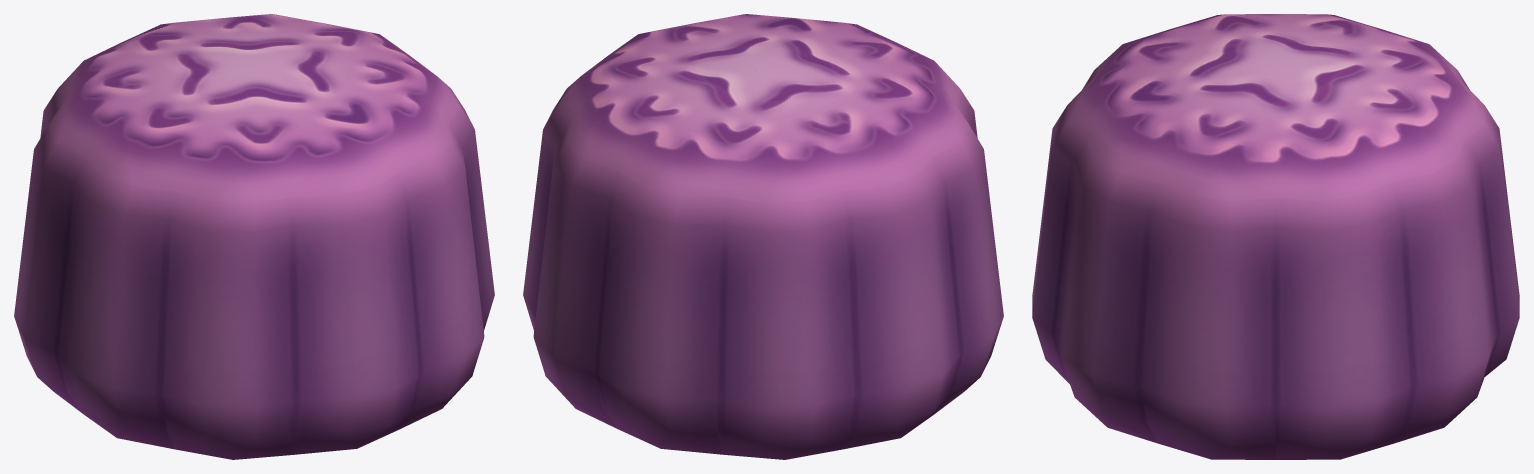
File: 010-Mooncakes_003.FBX
3 views of the same model, side by side, from view 1: azimuth 30°, elevation 25°; view 2: azimuth 150°, elevation 25°; view 3: azimuth 270°, elevation 25° (orthographic).
Parts seen in each view (by area): view 1: 010-Mooncakes_003; view 2: 010-Mooncakes_003; view 3: 010-Mooncakes_003.
Part boxes in pixels (x1,y1,x2,y2): 010-Mooncakes_003: (14,14,494,459); 010-Mooncakes_003: (523,14,1003,459); 010-Mooncakes_003: (1032,14,1519,459).
Size of the model in its own units: 11.41 by 8.24 by 11.6.
